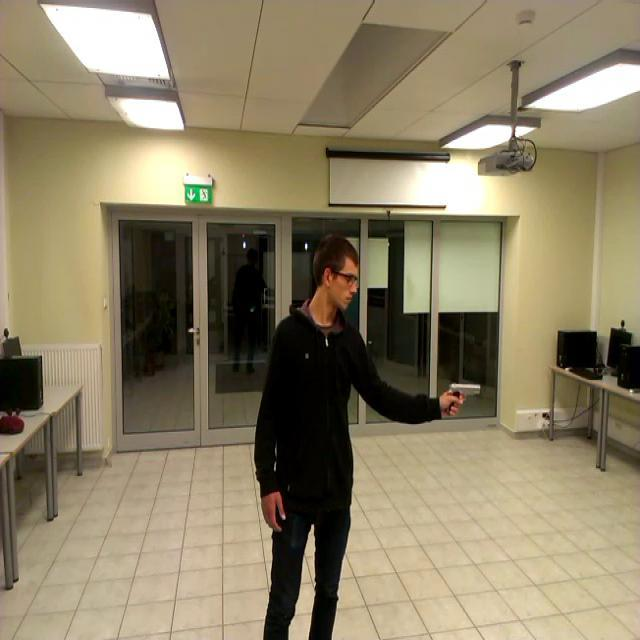Gun: (446, 382, 482, 414)
